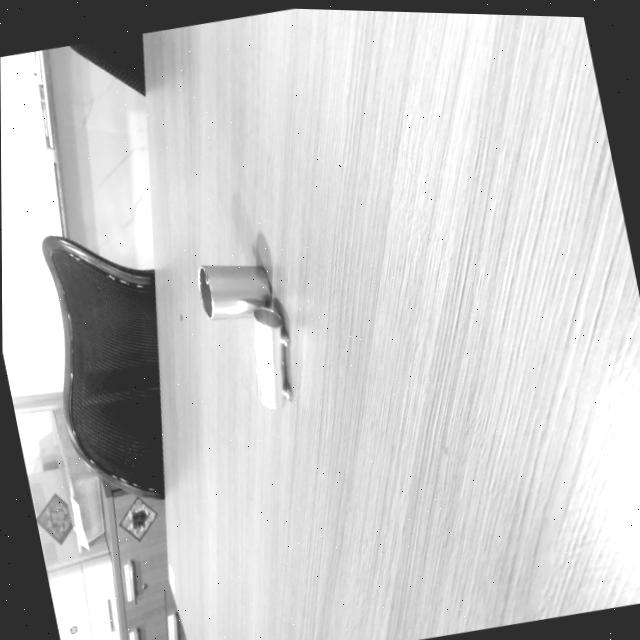Co_Lon: (197, 260, 274, 320)
Co_Nho: (253, 306, 291, 408)
